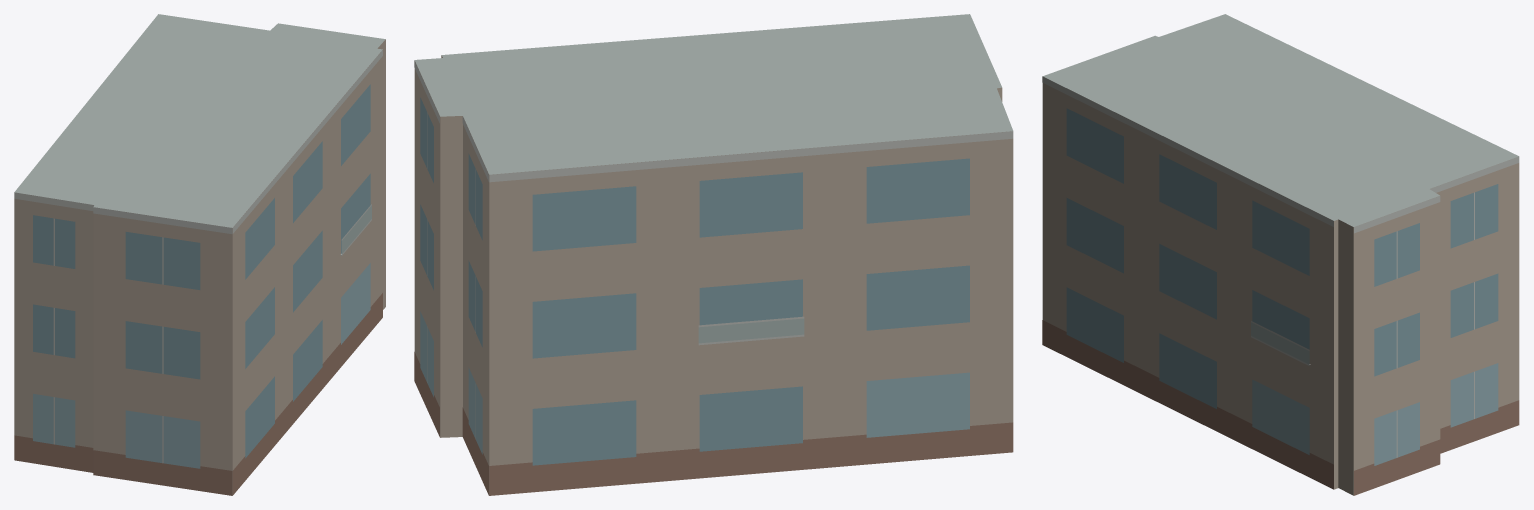
The model's file is survey-upis-32672474.glb.
3 views of the same model, side by side, from view 1: azimuth 30°, elevation 25°; view 2: azimuth 150°, elevation 25°; view 3: azimuth 270°, elevation 25° (orthographic). The views are drawn at different scales.
Visible parts, largest first — view 1: survey-upis-32672474.tmp; view 2: survey-upis-32672474.tmp; view 3: survey-upis-32672474.tmp.
Part boxes in pixels (bbox=[...]): survey-upis-32672474.tmp: bbox=[14, 14, 385, 495]; survey-upis-32672474.tmp: bbox=[414, 14, 1013, 495]; survey-upis-32672474.tmp: bbox=[1042, 14, 1519, 495].
Size of the model in its own units: 17.53 by 10.3 by 16.57.
